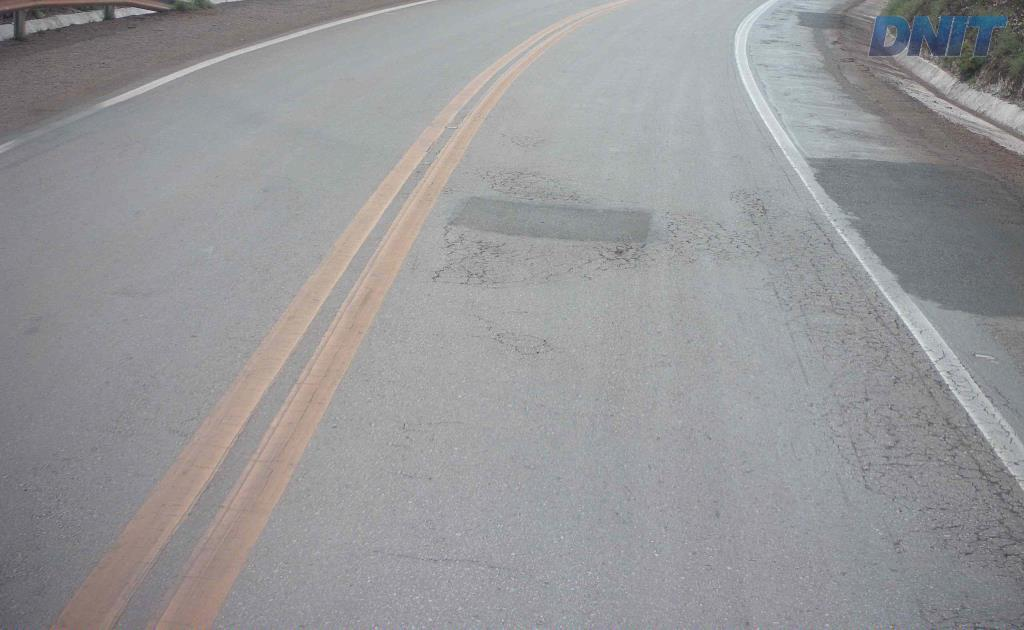crack: (778, 221, 951, 441), (505, 217, 703, 272), (945, 454, 1023, 577), (458, 239, 518, 285), (878, 438, 943, 472), (503, 185, 582, 205), (742, 200, 775, 240)
